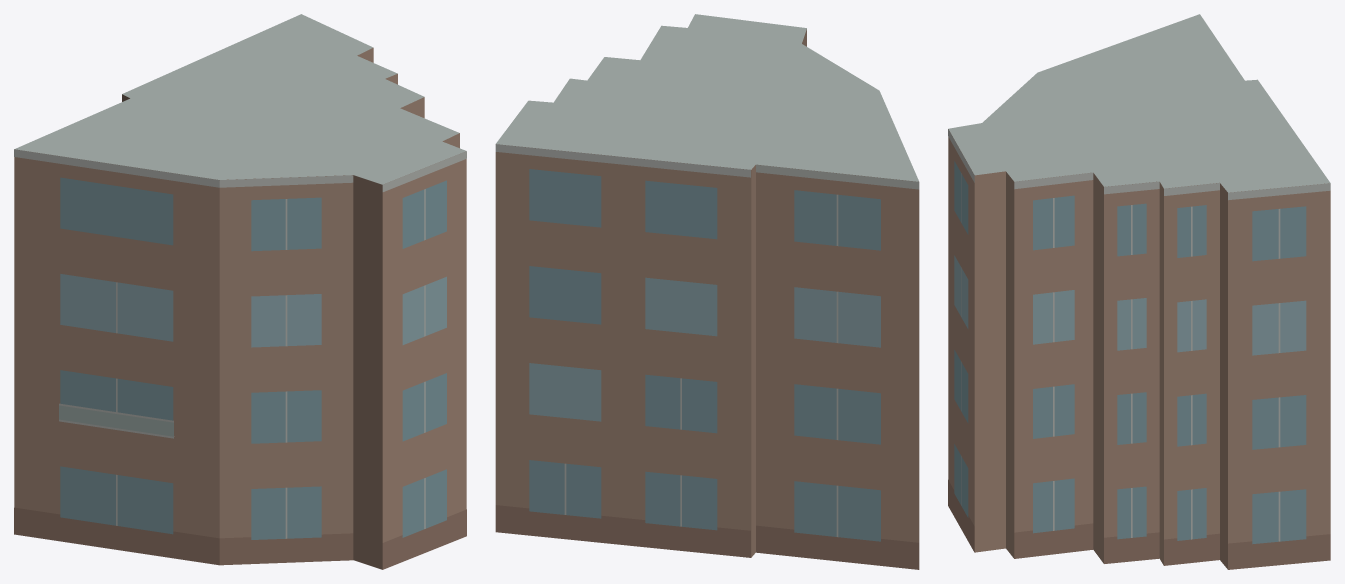
The model's file is survey-upis-33005605.glb.
The picture shows the model from 3 angles, left to right: view 1: azimuth 30°, elevation 25°; view 2: azimuth 150°, elevation 25°; view 3: azimuth 270°, elevation 25°; orthographic projection. The views are drawn at different scales.
Visible parts, largest first — view 1: survey-upis-33005605.tmp; view 2: survey-upis-33005605.tmp; view 3: survey-upis-33005605.tmp.
Boxes of the visible parts, x1,y1,x2,y2 form: survey-upis-33005605.tmp: [14, 14, 466, 569]; survey-upis-33005605.tmp: [495, 14, 919, 569]; survey-upis-33005605.tmp: [948, 14, 1330, 569].
Bounding box in the file's own units: 12.4 × 12.2 × 11.22.
